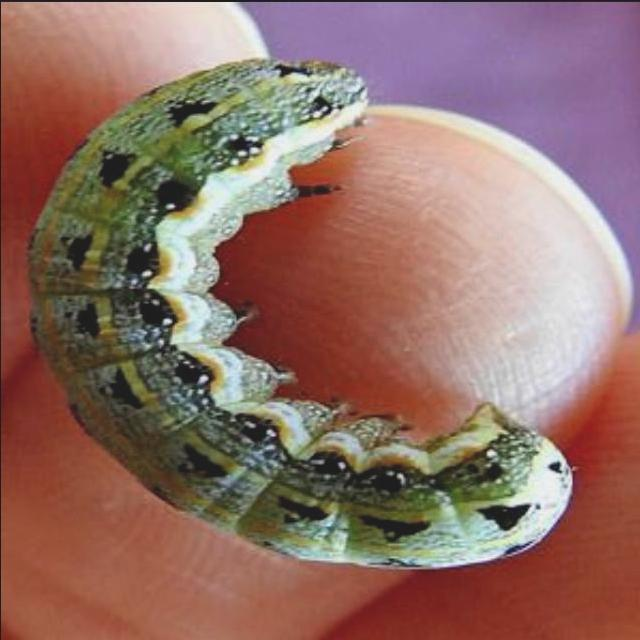Tobacco cutworm: (13, 31, 597, 592)
